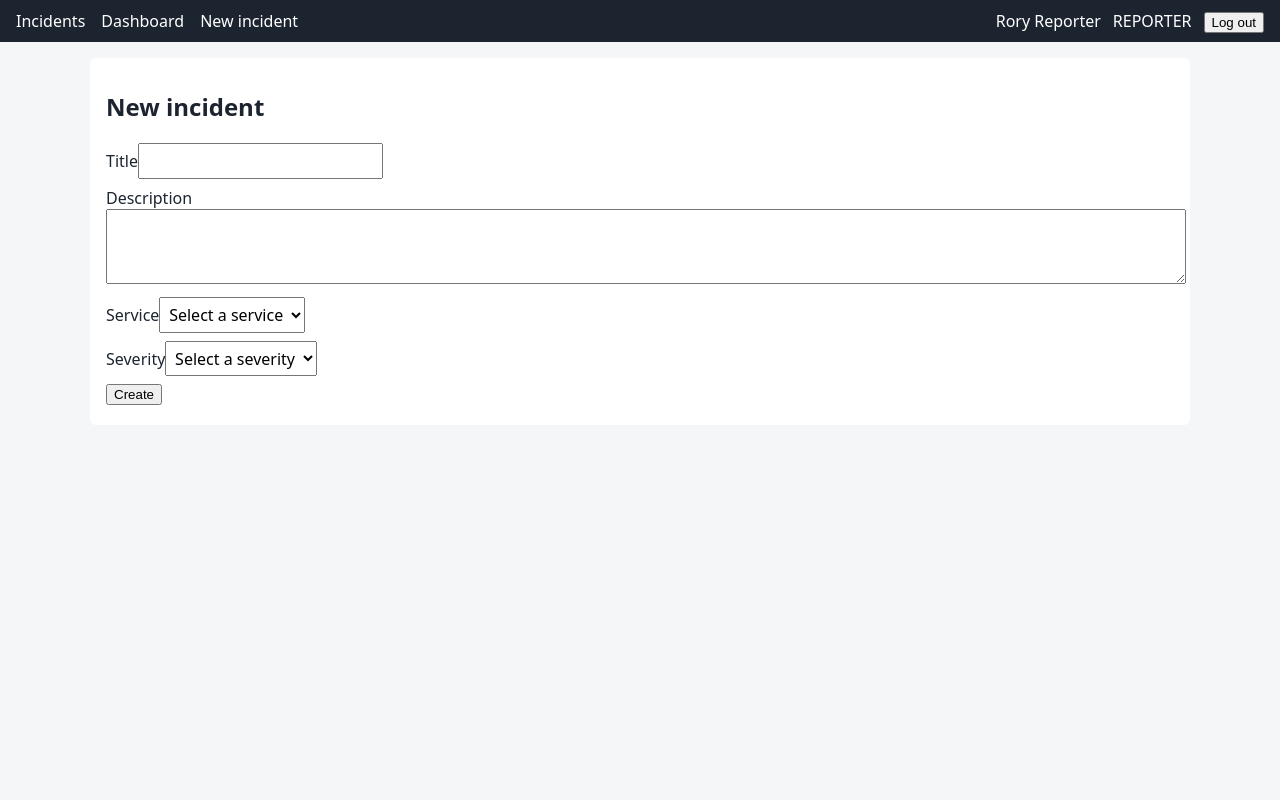
Test: create incident page › navigates to the new incident on success
Type "Gateway down" into the field with test id "new-title" at point(260, 161), box 138,143 -> 383,179
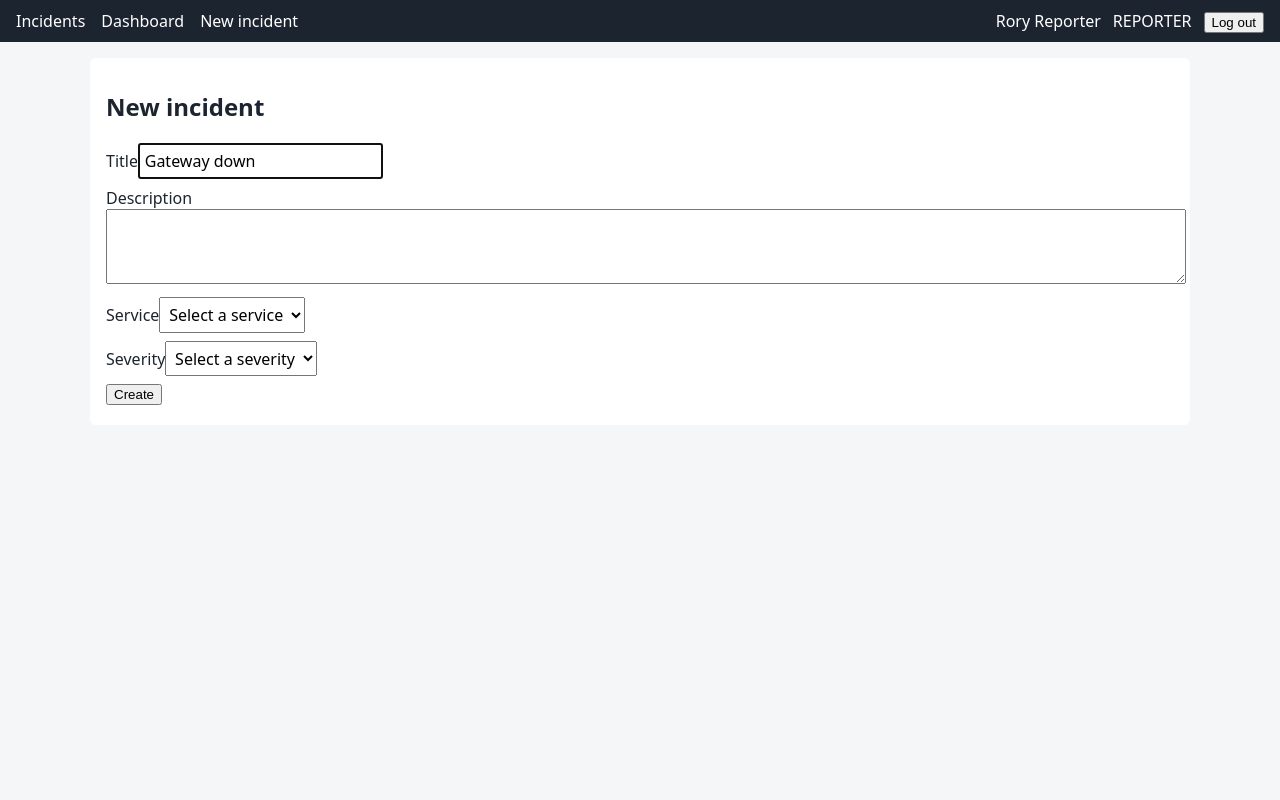
Select "API Gateway" in the dropdown with test id "new-service" at point(232, 315), box 159,297 -> 305,333
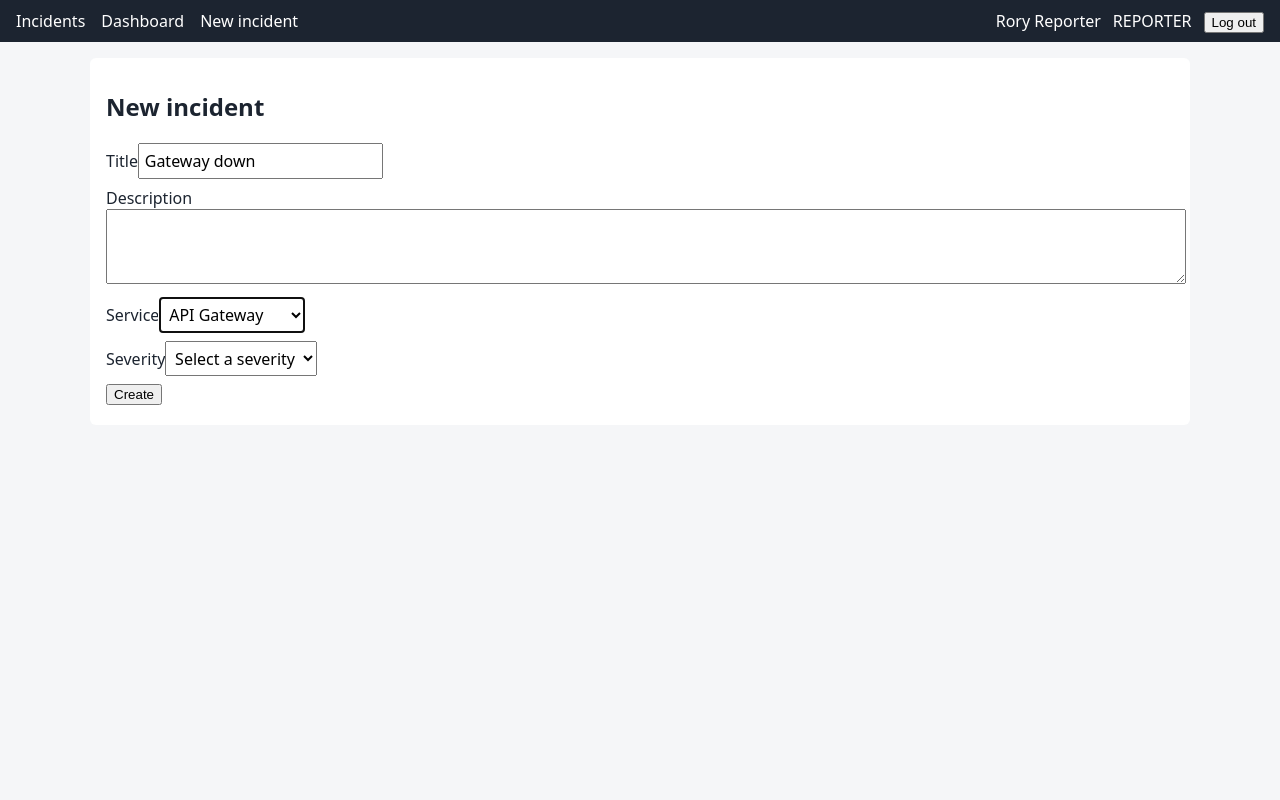
Select "SEV2" in the dropdown with test id "new-severity" at point(241, 359), box 165,341 -> 317,376
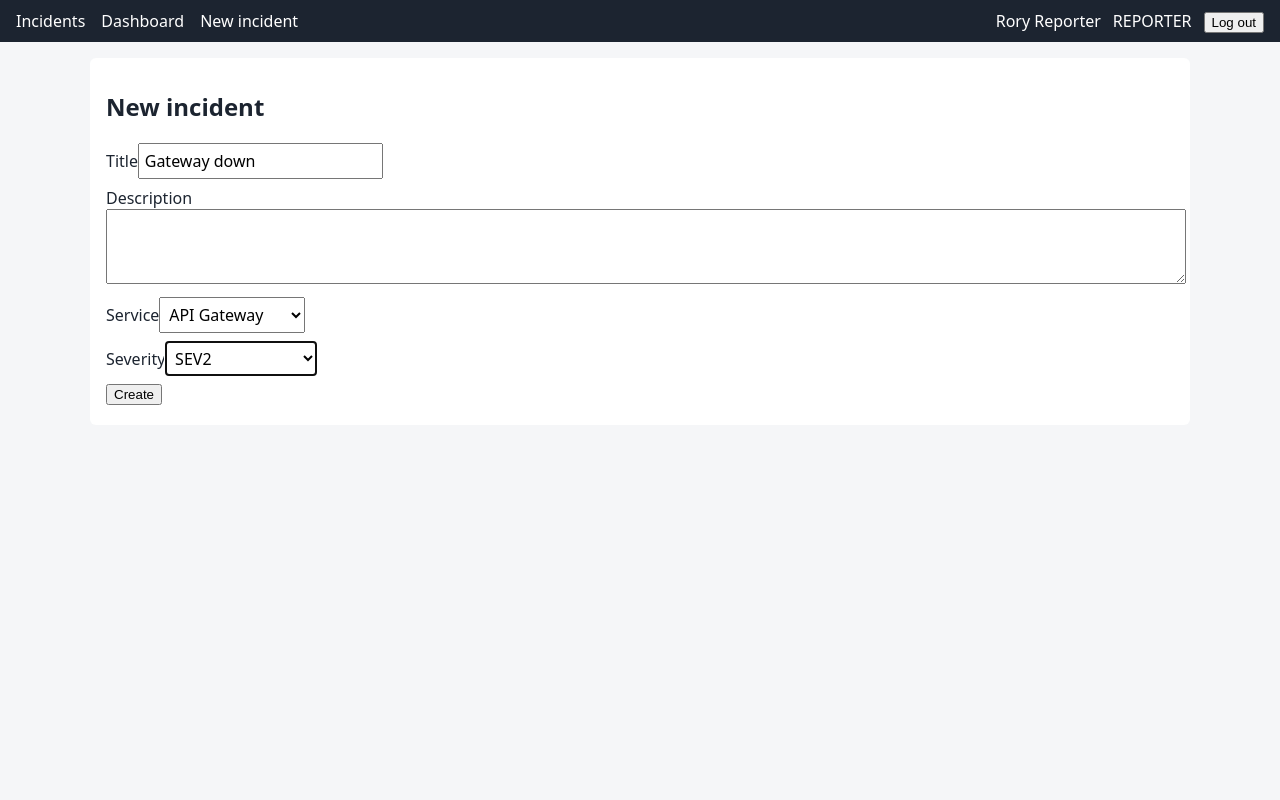
Click the button with test id "new-submit" at point(134, 395), box 106,384 -> 162,405
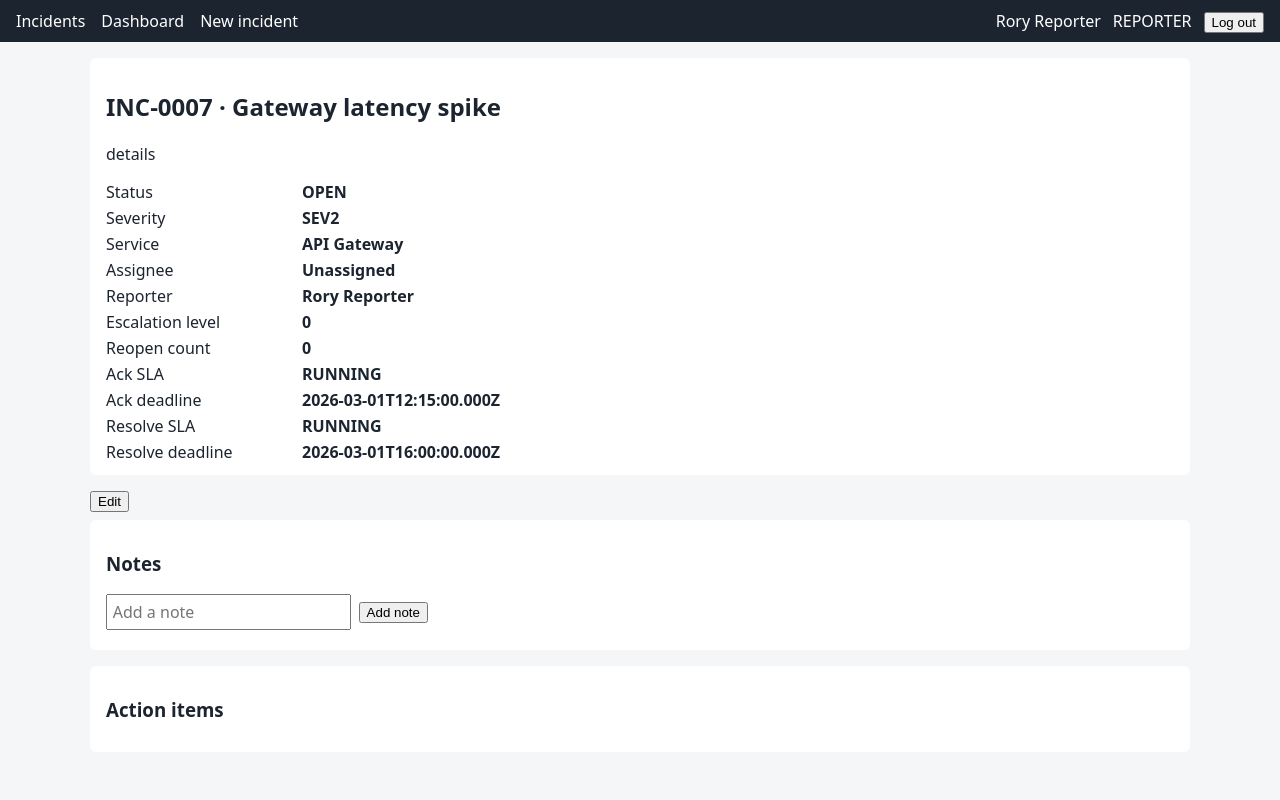
Check: the text with test id "detail-number" reads "INC-0007", box 106,90 -> 213,123
